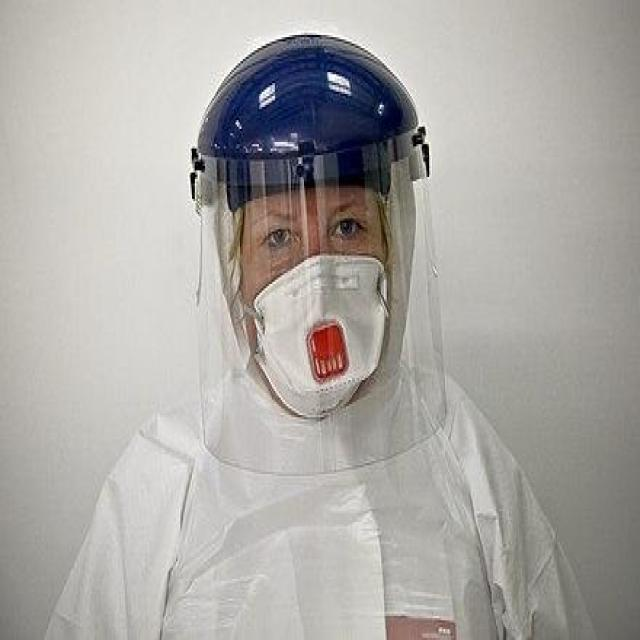Mask: (250, 251, 391, 422)
